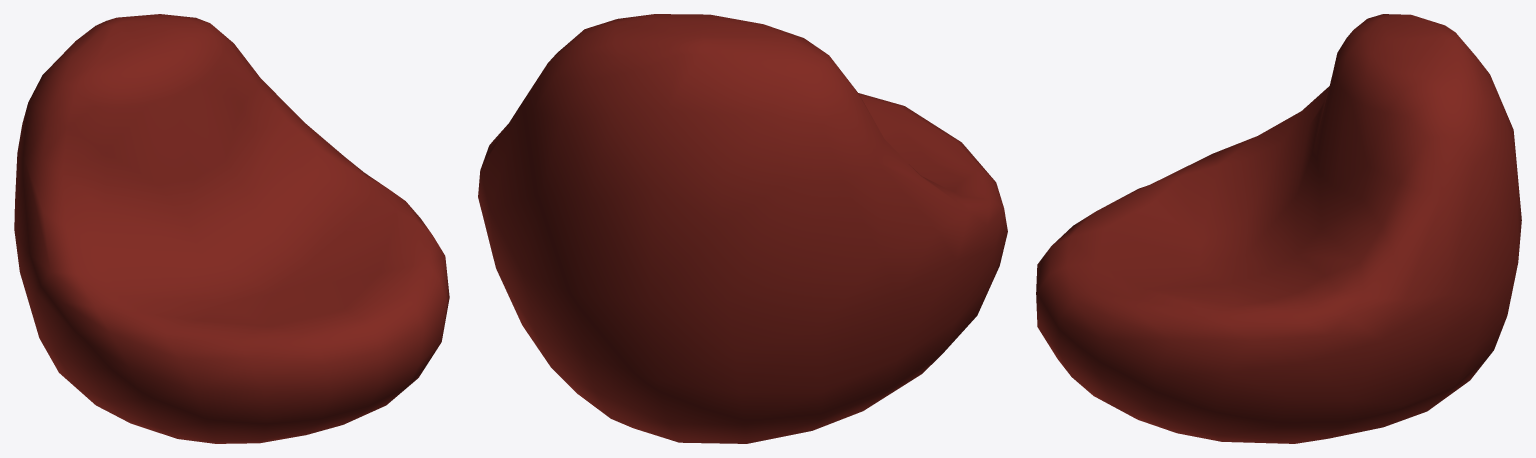
File: Pear-Seat.fbx
3 renders of one model, left to right at view 1: azimuth 30°, elevation 25°; view 2: azimuth 150°, elevation 25°; view 3: azimuth 270°, elevation 25°, orthographic. The views are drawn at different scales.
Parts seen in each view (by area): view 1: Pear-Seat; view 2: Pear-Seat; view 3: Pear-Seat.
Boxes of the visible parts, x1,y1,x2,y2 form: Pear-Seat: (14,14,449,443); Pear-Seat: (478,14,1007,443); Pear-Seat: (1036,14,1521,443).
Bounding box in the file's own units: 0.9325 × 0.8341 × 1.03.
